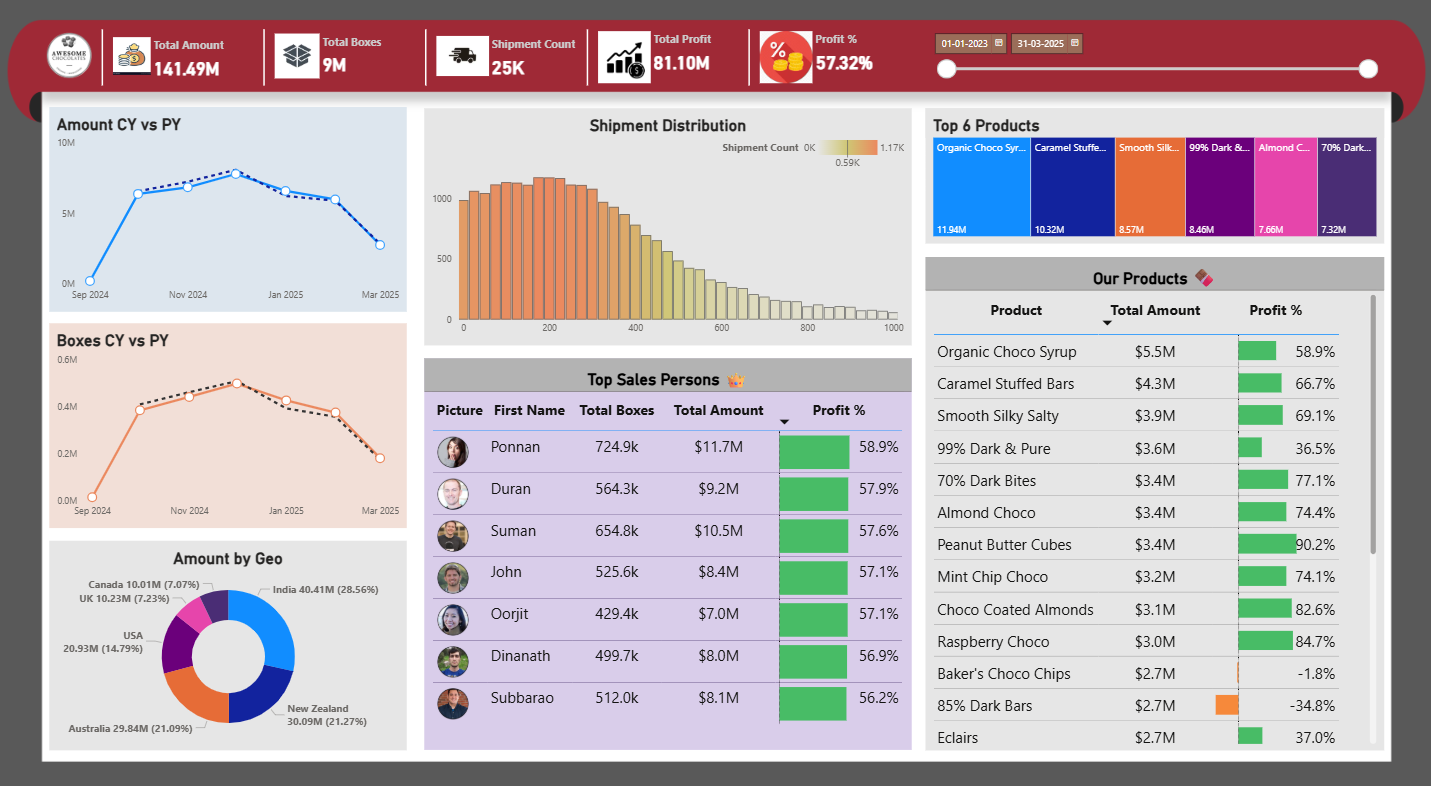

The dashboard page shown, as its layout file describes it:
{"tool":"powerbi","page":{"name":"YOY_Comparision","canvas":[1920,1080],"ordinal":5},"visuals":[{"type":"lineChart","fields":{"Y":["shipments.Total Amount","shipments.Total amount (last year)"],"Category":["calendar.year","calendar.month_name"]},"box":[716,0,1204,714],"z":0},{"type":"tableEx","fields":{"Values":["calendar.year","calendar.month_name","shipments.Total Amount","shipments.Total amount (last year)","shipments.Total amount(12 months variance)"]},"box":[0,0,716,944],"z":1000},{"type":"pieChart","fields":{"Y":["Sum(shipments.Boxes)"],"Category":["locations.Geo"]},"box":[716,714,602,366],"z":2000},{"type":"pieChart","fields":{"Y":["shipments.Shipment Count"],"Category":["people.Team"]},"box":[1318,714,602,366],"z":3000},{"type":"slicer","fields":{"Values":["calendar.cal_date"]},"box":[0,944,716,136],"z":4000}]}

Visuals, with their boxes in screenshot pixels (x1, y1, x2, y2), scaled from the page's 1920x1080 canvas onto the 1431x786 screenshot:
lineChart - shipments.Total Amount x shipments.Total amount (last year): x1=534 y1=0 x2=1430 y2=520
tableEx - calendar.year x calendar.month_name: x1=0 y1=0 x2=534 y2=687
pieChart - Sum(shipments.Boxes) x locations.Geo: x1=534 y1=520 x2=982 y2=785
pieChart - shipments.Shipment Count x people.Team: x1=982 y1=520 x2=1430 y2=785
slicer - calendar.cal_date: x1=0 y1=687 x2=534 y2=785
